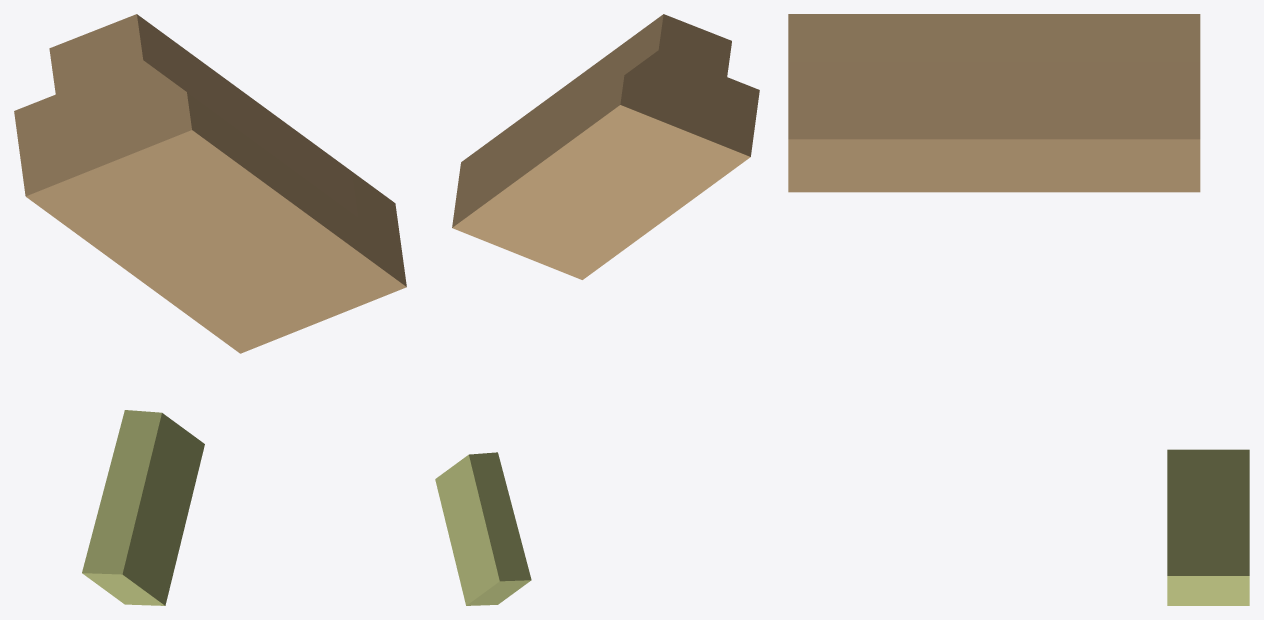
The picture shows the model from 3 angles, left to right: view 1: azimuth 30°, elevation 25°; view 2: azimuth 150°, elevation 25°; view 3: azimuth 270°, elevation 25°; orthographic projection. The views are drawn at different scales.
Parts seen in each view (by area): view 1: 0_1_2_0_3_1_2_2_0; view 2: 0_1_2_0_3_1_2_2_0; view 3: 0_1_2_0_3_1_2_2_0.
Boxes of the visible parts, <box> form: 0_1_2_0_3_1_2_2_0: <box>14,14,406,605</box>; 0_1_2_0_3_1_2_2_0: <box>435,14,759,605</box>; 0_1_2_0_3_1_2_2_0: <box>788,14,1249,605</box>.
Size of the model in its own units: 14.35 by 44.85 by 33.6.
